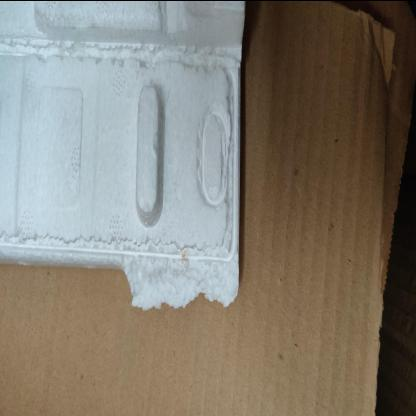kopuk: (1, 3, 245, 311)
